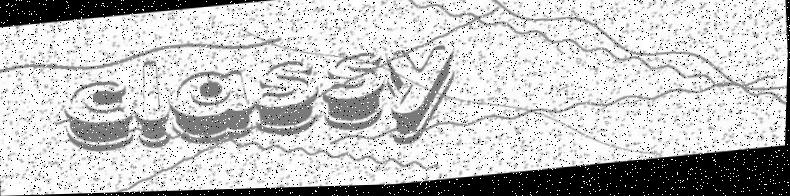a: (165, 65, 258, 150)
c: (59, 77, 137, 157)
l: (130, 59, 174, 151)
s: (318, 53, 388, 137), (253, 60, 323, 141)
y: (381, 45, 462, 151)
